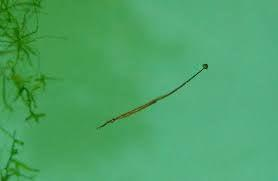Long-Snouted Pipefish: (94, 61, 213, 144)
